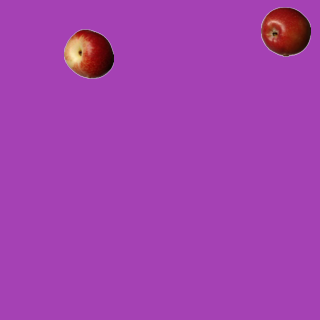Apple Braeburn: (260, 6, 310, 56)
Nectarine: (63, 28, 113, 78)
